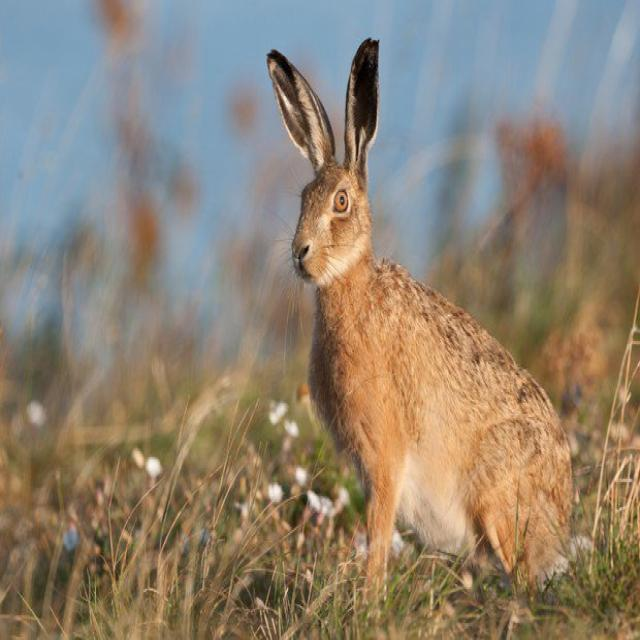Hare: (257, 26, 584, 589)
